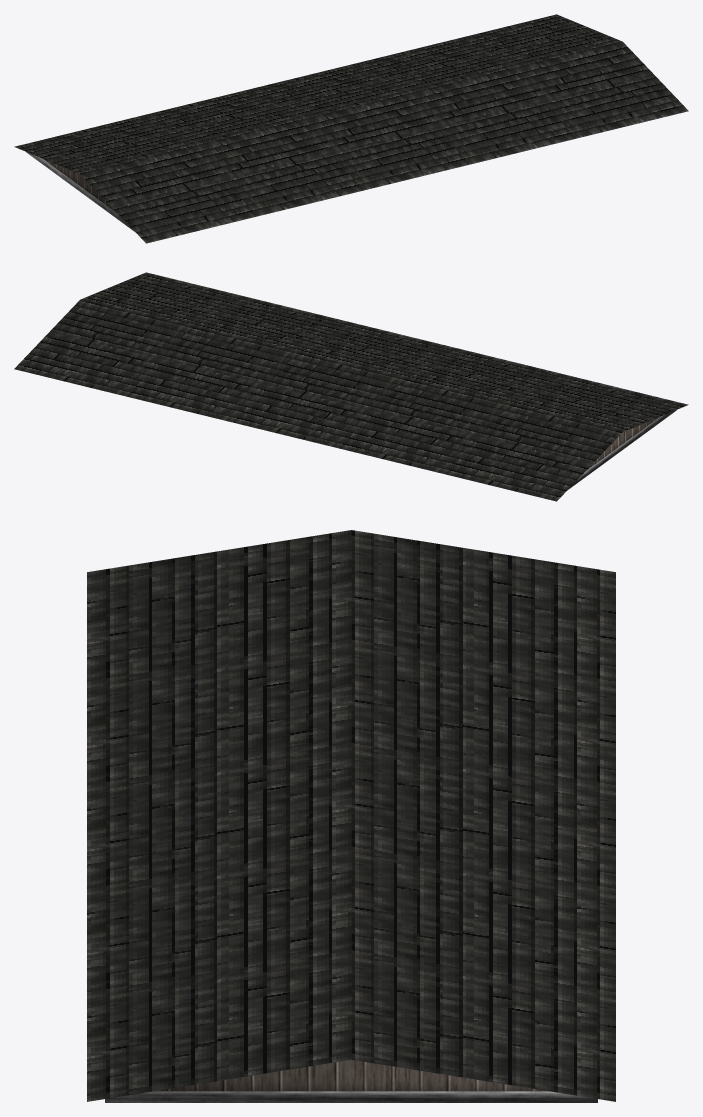
The model's file is roof5.obj.
3 renders of one model, top to bottom at view 1: azimuth 30°, elevation 25°; view 2: azimuth 150°, elevation 25°; view 3: azimuth 270°, elevation 25°, orthographic. The views are drawn at different scales.
Visible parts, largest first — view 1: top5; view 2: top5; view 3: top5.
Boxes of the visible parts, left/top/right/bottom form: top5: left=14, top=14, right=688, bottom=243; top5: left=14, top=272, right=688, bottom=501; top5: left=87, top=530, right=615, bottom=1102.
Size of the model in its own units: 692 by 31 by 292.
